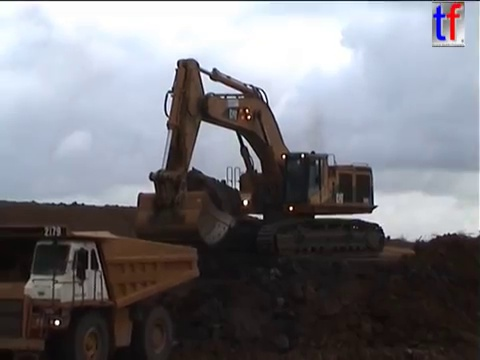excavator: (131, 55, 388, 262)
truck: (1, 220, 202, 360)
